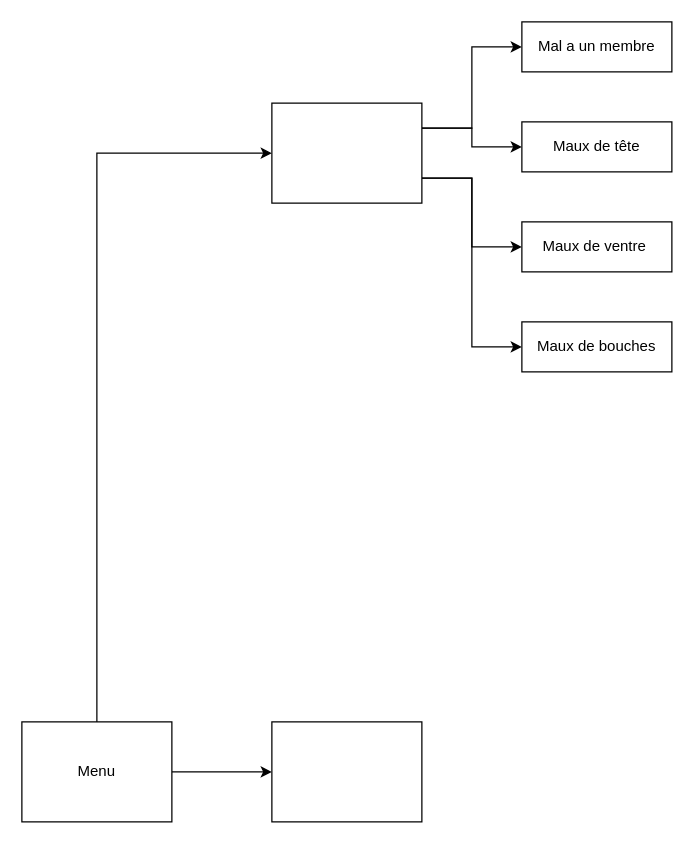
Image size: 694x844. Some labels were removed from this diagram. Here are the shapes that lost their labels. From the top down, the box of each, then its label:
(271, 102, 422, 203): Pré Diagnostique
(271, 721, 422, 822): Export des rendez-vous en .ics
